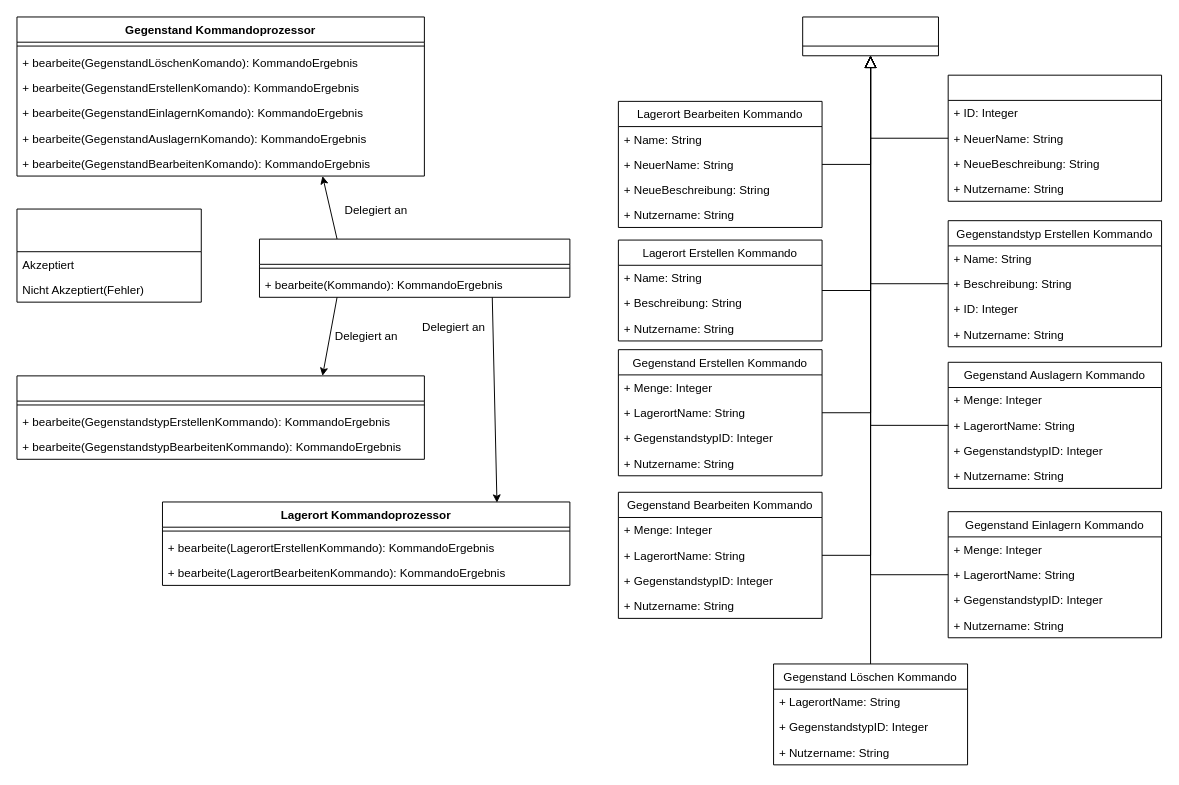
Some shapes in this 1179 by 785 pixel diagram are drawn without their labels. Here are the shapes that lost their labels. From the top down, the box of each, then its label:
(802, 16, 938, 56): Kommando
(947, 74, 1162, 201): Gegenstandstyp Bearbeiten Komando
(16, 208, 201, 302): «Variant» KommandoErgebnis
(259, 238, 570, 297): Zentraler Kommandoprozessor
(16, 375, 424, 459): Gegenstandstyp Kommandoprozessor
